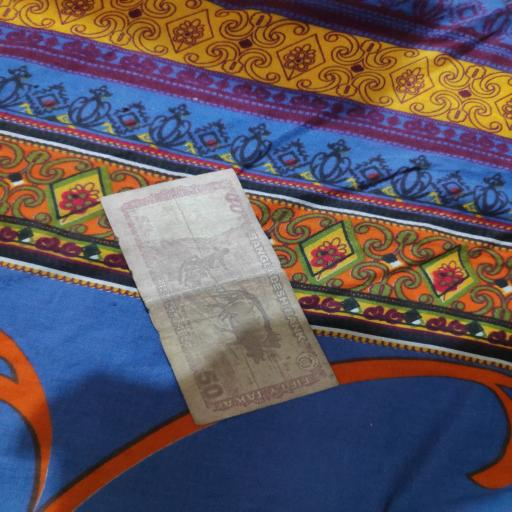50taka: (100, 165, 338, 425)
